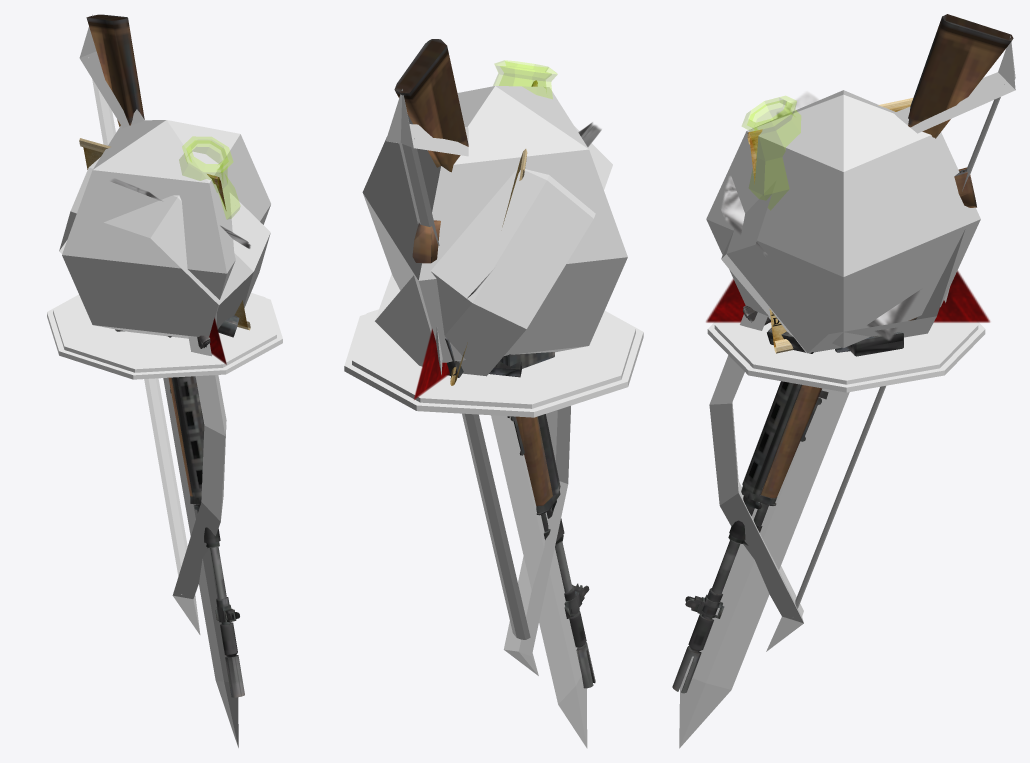
Rendered from TST ITEMS.glb.
3 renders of one model, left to right at view 1: azimuth 30°, elevation 25°; view 2: azimuth 150°, elevation 25°; view 3: azimuth 270°, elevation 25°, orthographic. The views are drawn at different scales.
Visible parts, largest first — view 1: Latern, Bow, Pedestal, M14, Brace, Sword, Flask, Paper; view 2: Latern, Brace, Pedestal, Bow, M14, Sword, Flask, Violence Insignia, M14 Magazine; view 3: Latern, M14, Sword, Bow, Pedestal, Brace, Flask, Violence Insignia, Clothes, M14 Magazine, Paper.
Part boxes in pixels (bbox=[...]): Latern: bbox=[62, 120, 270, 338]; Bow: bbox=[79, 14, 226, 634]; Pedestal: bbox=[47, 292, 282, 379]; M14: bbox=[86, 14, 244, 697]; Brace: bbox=[59, 157, 270, 329]; Sword: bbox=[163, 377, 238, 747]; Flask: bbox=[179, 136, 239, 219]; Paper: bbox=[79, 138, 250, 330]; Latern: bbox=[362, 86, 627, 362]; Brace: bbox=[375, 126, 612, 376]; Pedestal: bbox=[344, 309, 643, 417]; Bow: bbox=[386, 89, 570, 675]; M14: bbox=[394, 39, 595, 688]; Sword: bbox=[491, 415, 587, 748]; Flask: bbox=[493, 60, 557, 98]; Violence Insignia: bbox=[414, 329, 449, 399]; M14 Magazine: bbox=[403, 350, 554, 368]; Latern: bbox=[706, 90, 980, 347]; M14: bbox=[672, 14, 1013, 693]; Sword: bbox=[679, 388, 849, 748]; Bow: bbox=[709, 36, 1015, 651]; Pedestal: bbox=[707, 321, 985, 392]; Brace: bbox=[721, 180, 965, 353]; Flask: bbox=[742, 96, 800, 209]; Violence Insignia: bbox=[706, 271, 989, 322]; Clothes: bbox=[721, 91, 921, 340]; M14 Magazine: bbox=[767, 328, 903, 356]; Paper: bbox=[747, 98, 913, 353].
Size of the model in its own units: 17.63 by 44.12 by 18.74.
Materials: 14 (12 with a texture image).
